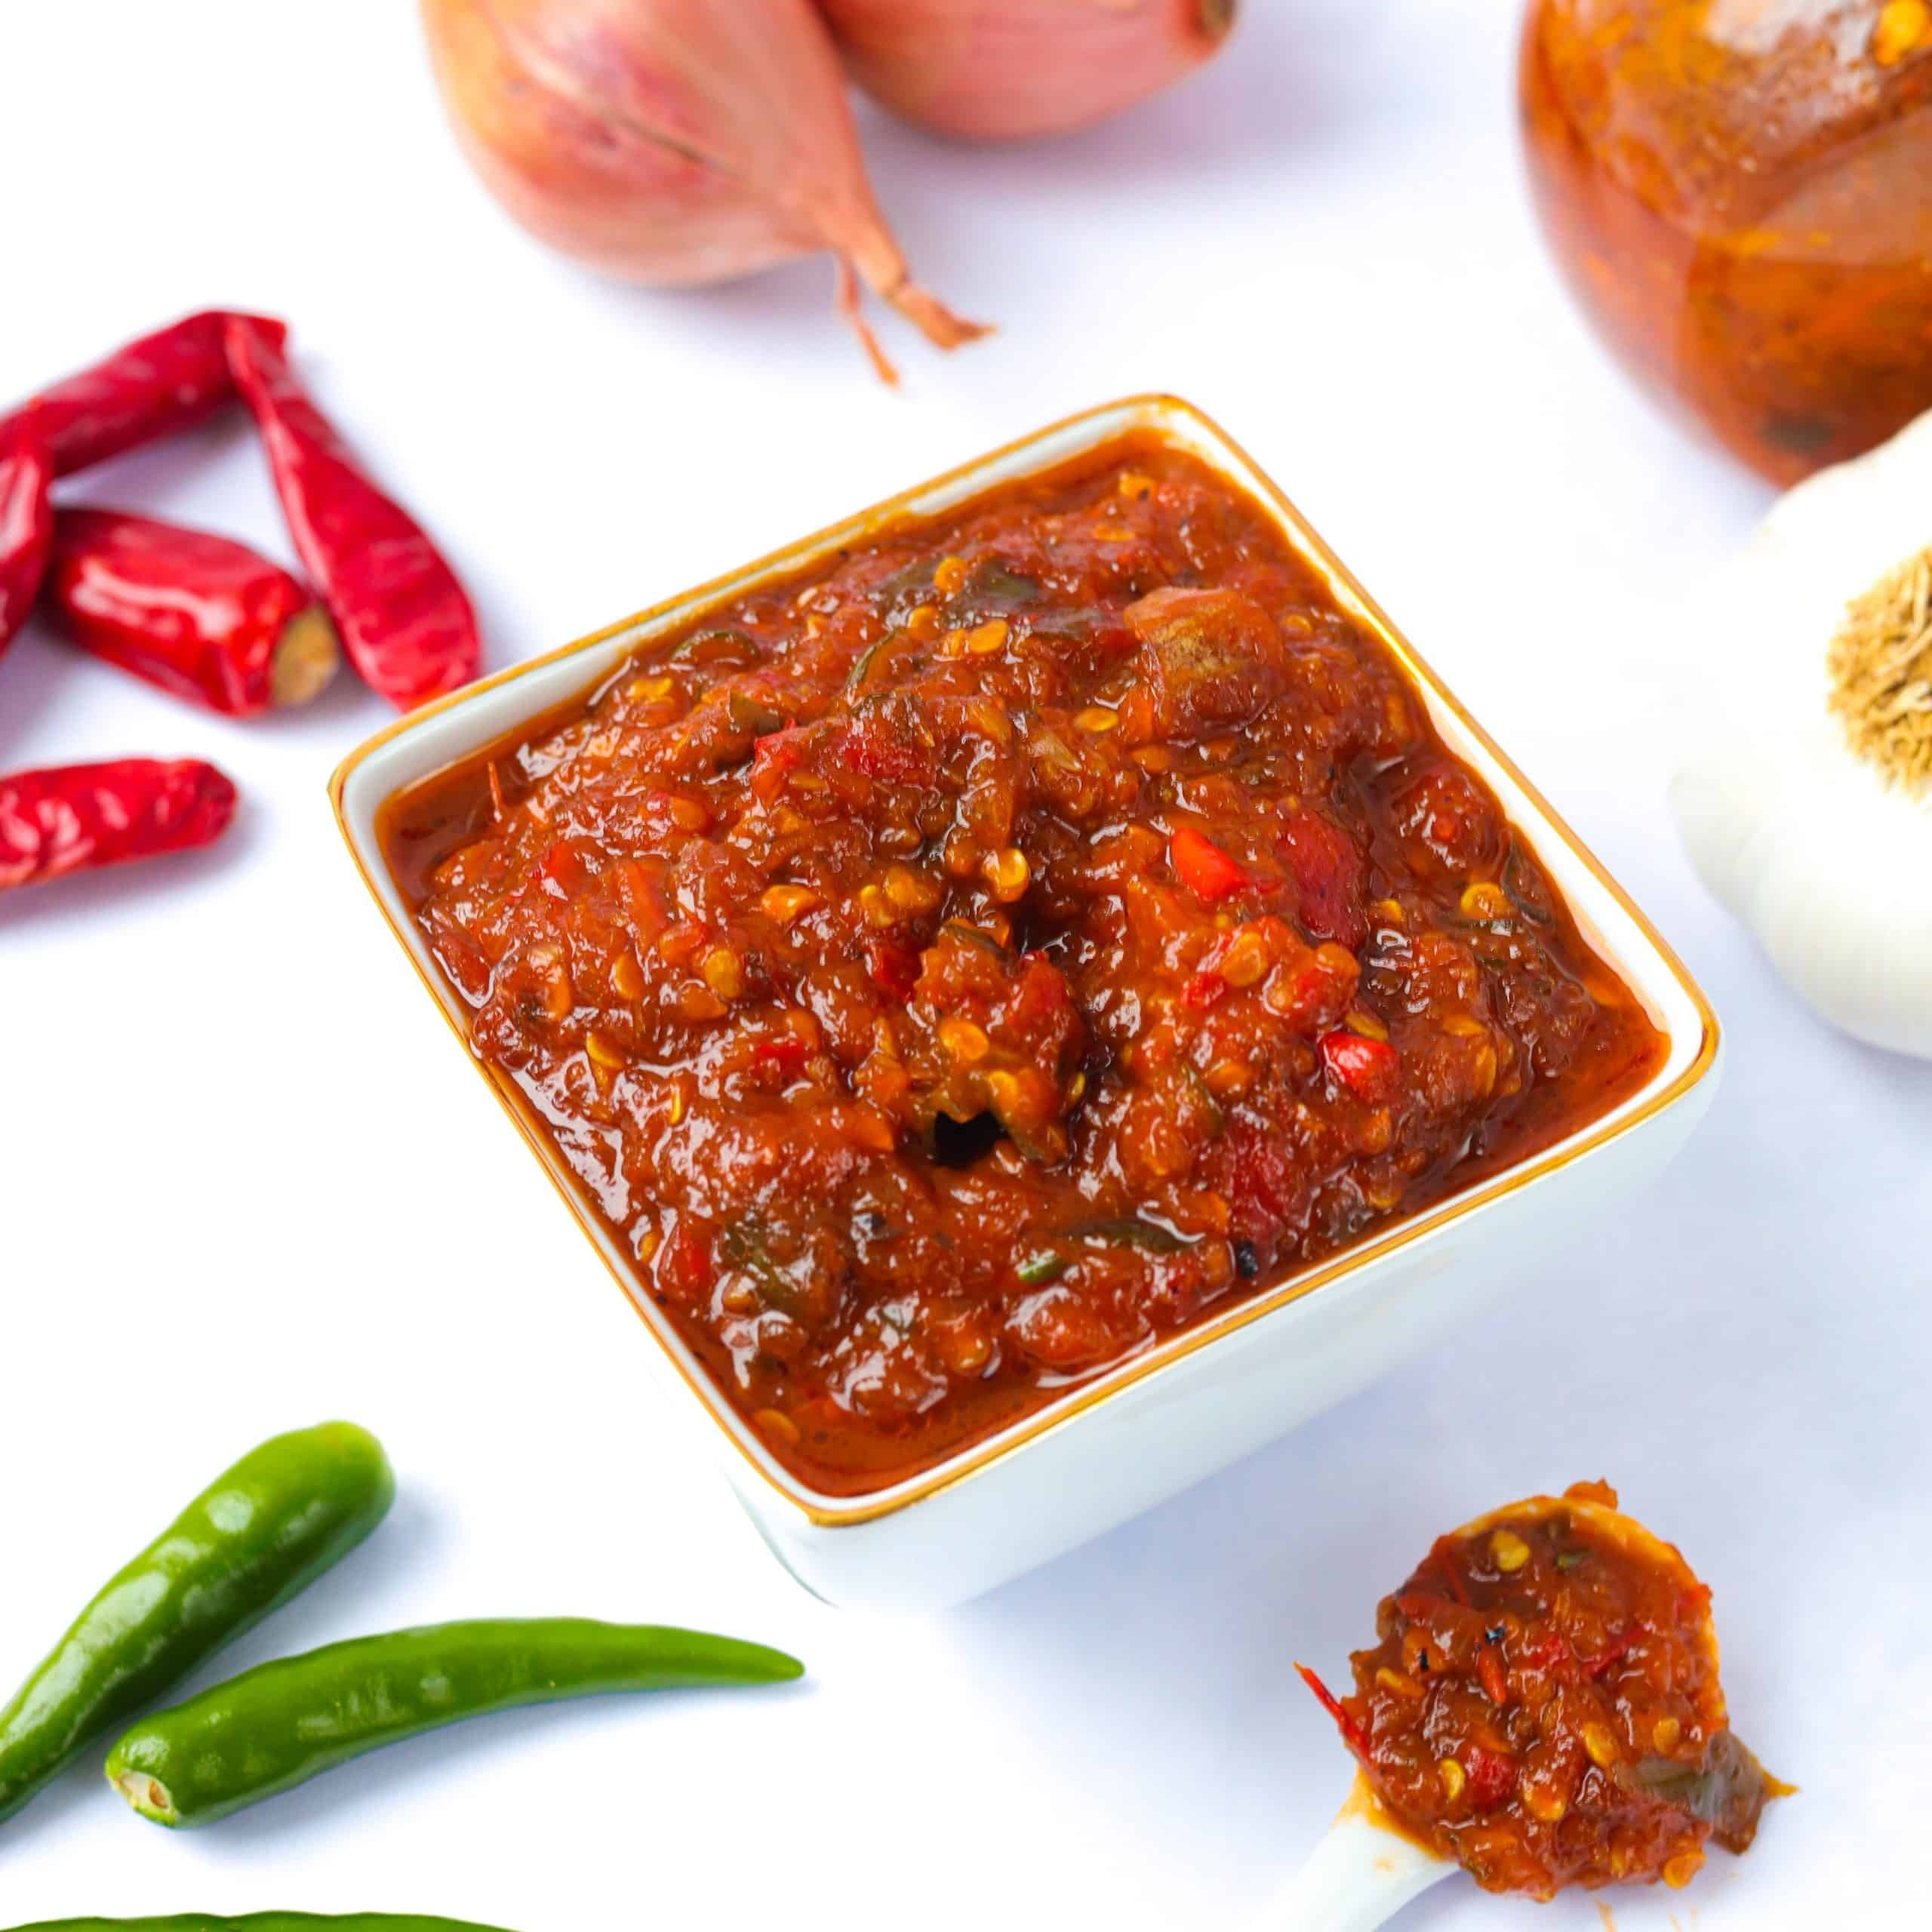sambal: (398, 458, 1610, 1445), (1336, 1493, 1752, 1890)
